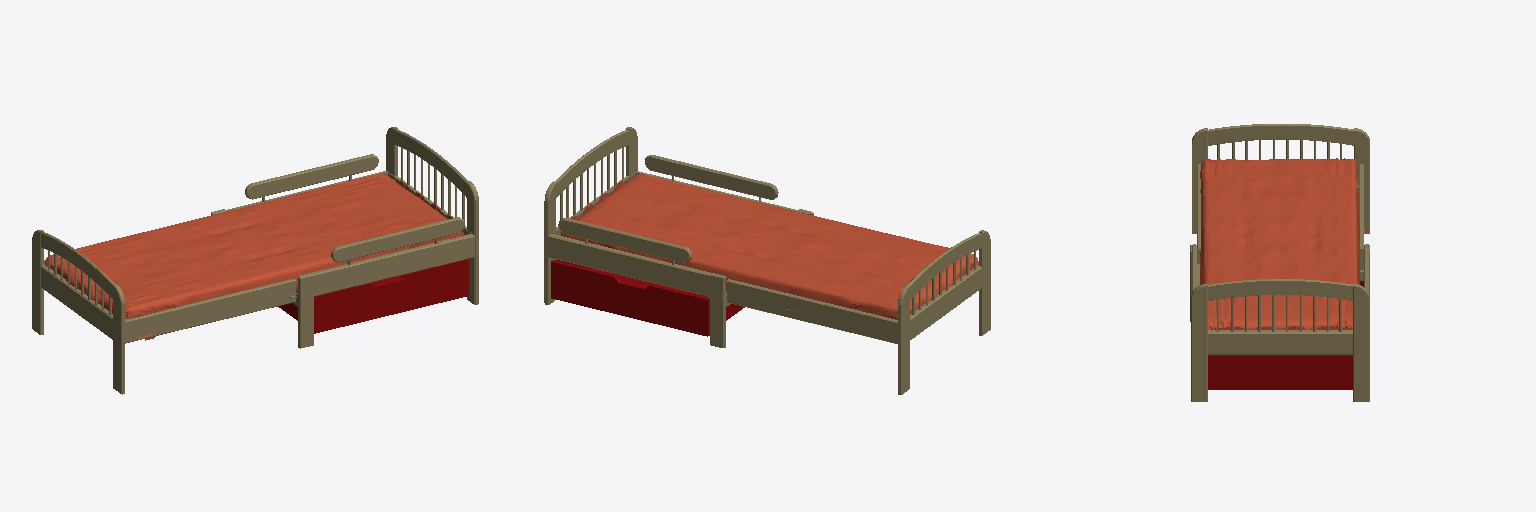
File: bad.obj
3 renders of one model, left to right at view 1: azimuth 30°, elevation 25°; view 2: azimuth 150°, elevation 25°; view 3: azimuth 270°, elevation 25°, orthographic.
Parts seen in each view (by area): view 1: krovat, Box03, Box02, Line01; view 2: krovat, Box03, Box02, Line01; view 3: krovat, Box03, Box02, Line01.
Boxes of the visible parts, box(x1,y1,x2,y2) form: krovat: box(45, 173, 464, 340); Box03: box(211, 127, 478, 348); Box02: box(32, 230, 296, 394); Line01: box(278, 259, 468, 333); krovat: box(561, 174, 978, 319); Box03: box(544, 127, 813, 347); Box02: box(727, 230, 990, 394); Line01: box(551, 260, 744, 336); krovat: box(1192, 158, 1364, 329); Box03: box(1190, 244, 1369, 401); Box02: box(1192, 124, 1369, 269); Line01: box(1208, 281, 1363, 389).
Size of the model in its own units: 1.99 by 0.6676 by 0.8677.